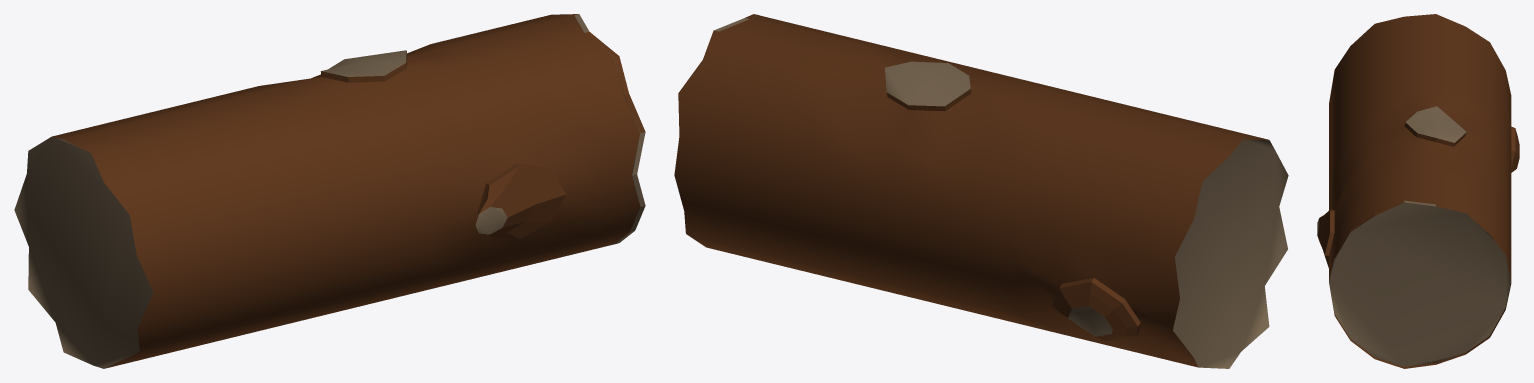
File: Stokk1.FBX
The picture shows the model from 3 angles, left to right: view 1: azimuth 30°, elevation 25°; view 2: azimuth 150°, elevation 25°; view 3: azimuth 270°, elevation 25°; orthographic projection. The views are drawn at different scales.
Visible parts, largest first — view 1: Stokk1; view 2: Stokk1; view 3: Stokk1.
Part boxes in pixels (left/top/right/bottom): Stokk1: left=14, top=14, right=645, bottom=368; Stokk1: left=674, top=14, right=1288, bottom=368; Stokk1: left=1317, top=14, right=1519, bottom=368.
Bounding box in the file's own units: 1 × 0.4037 × 0.4449.
